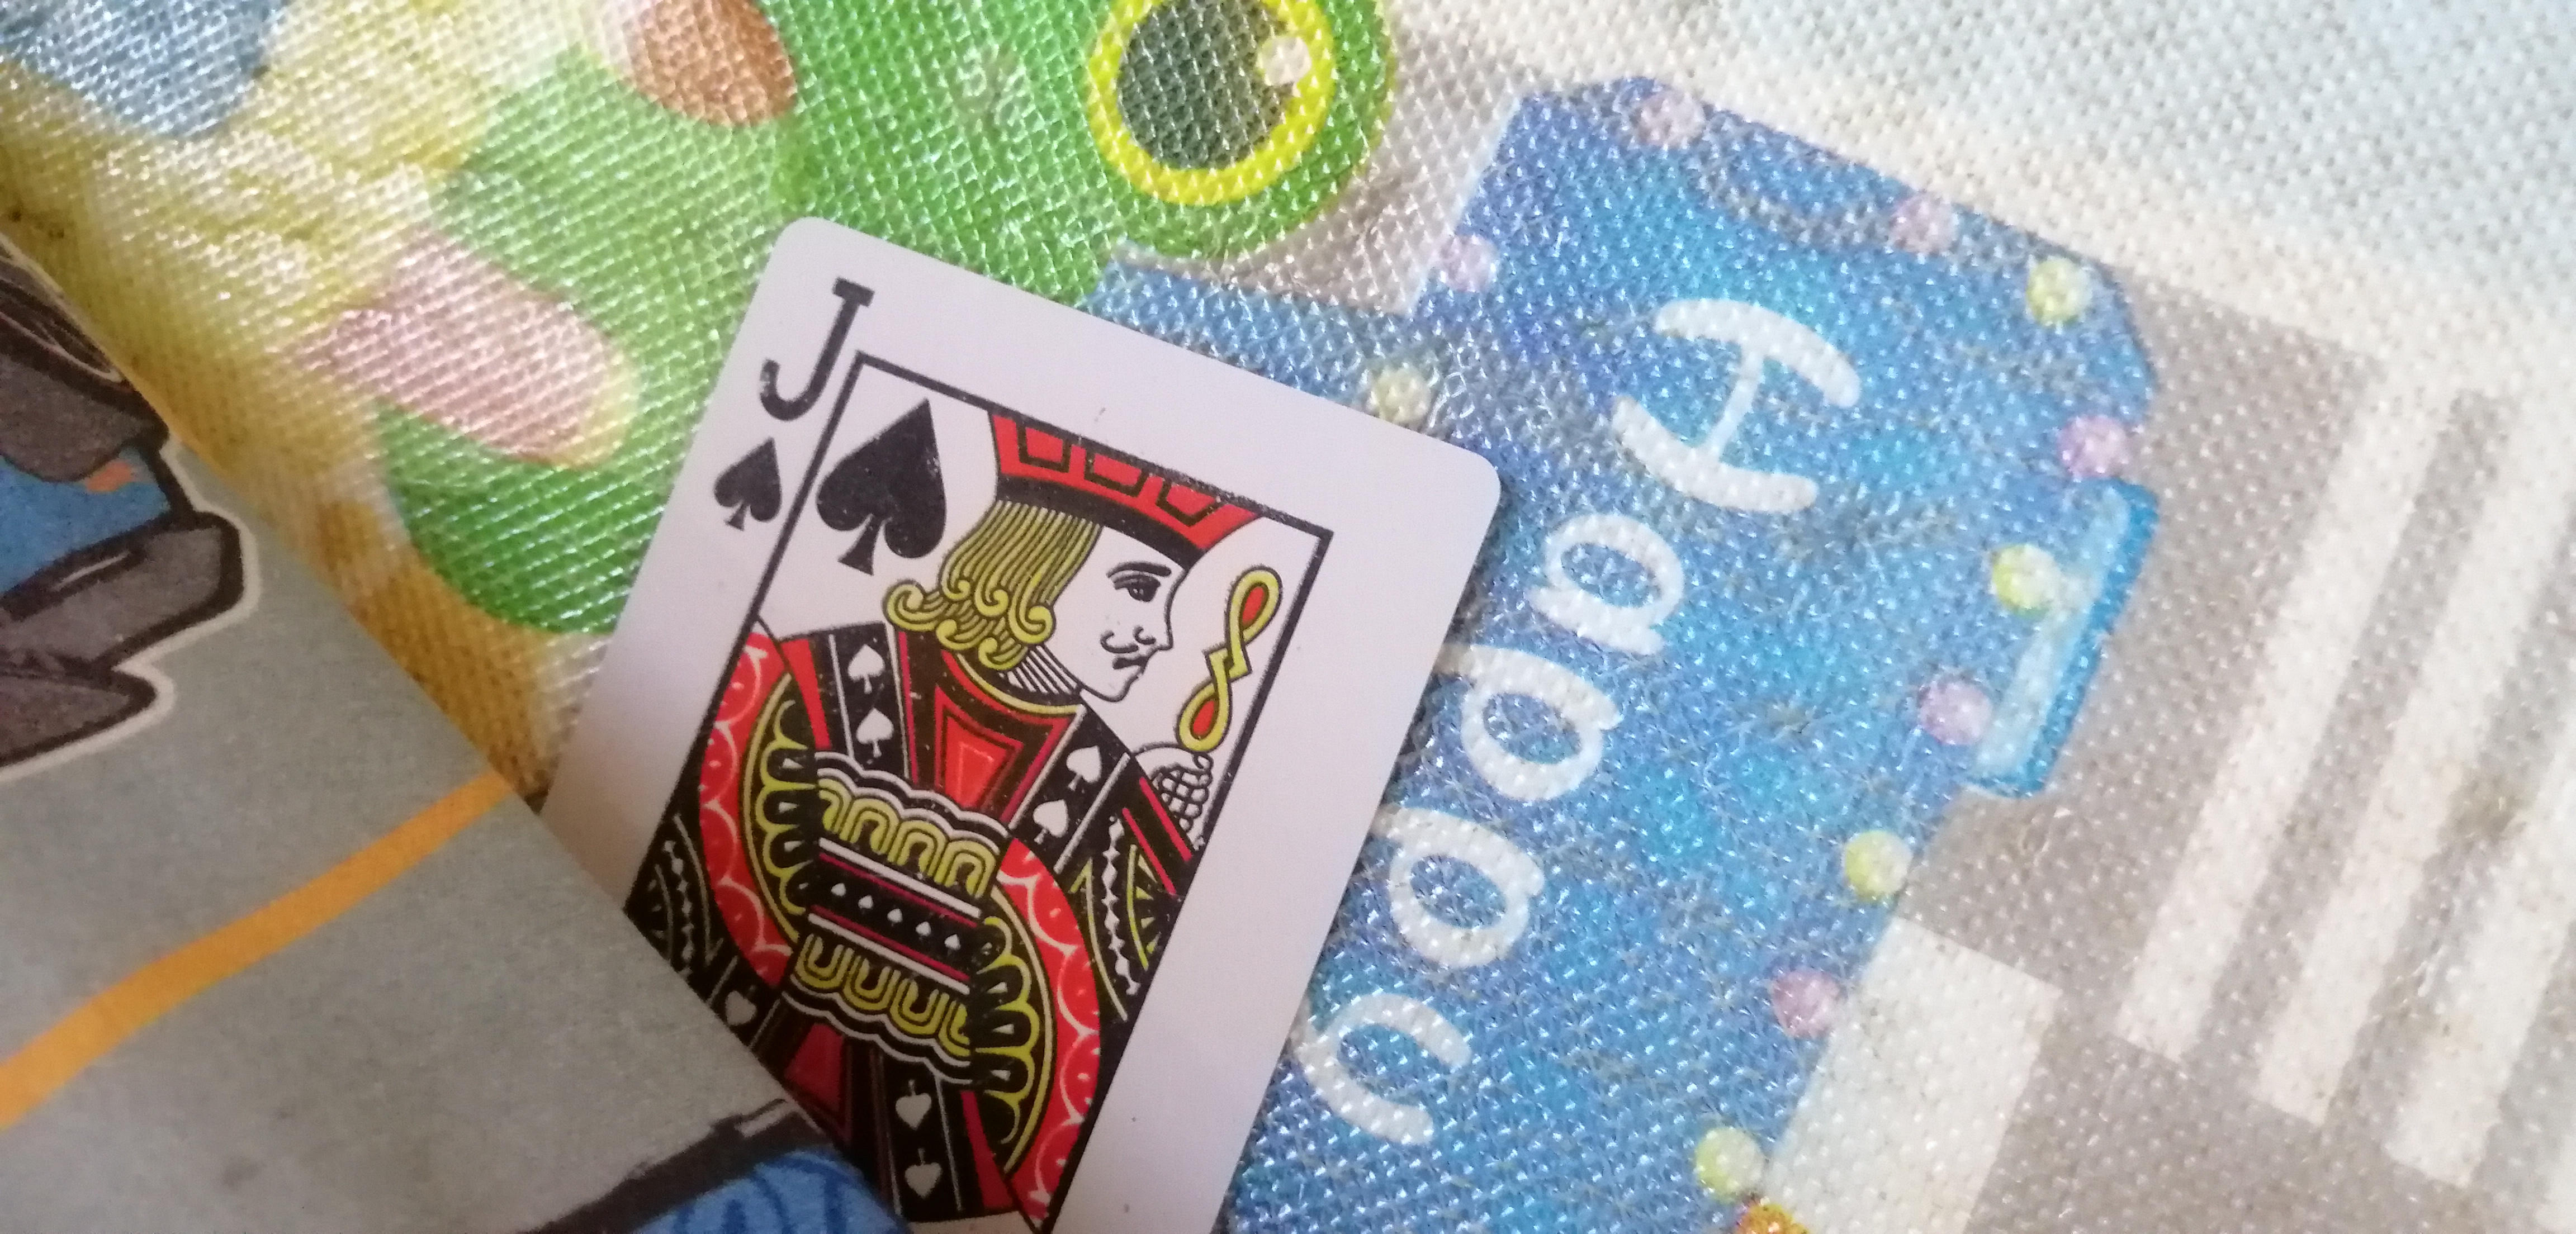jack: (583, 192, 1488, 1234)
